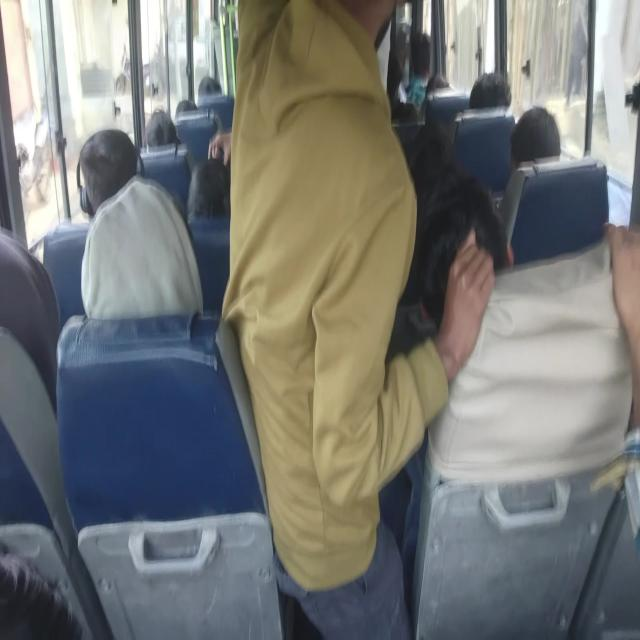person: (250, 1, 398, 312), (42, 212, 231, 334), (413, 173, 507, 332), (0, 226, 61, 418), (1, 544, 82, 638), (76, 140, 141, 222), (508, 106, 561, 171), (468, 72, 512, 110), (390, 116, 424, 163), (191, 166, 229, 206), (197, 88, 235, 128), (144, 110, 182, 149), (386, 52, 404, 112), (425, 72, 451, 96), (197, 76, 222, 98), (174, 100, 198, 120)
